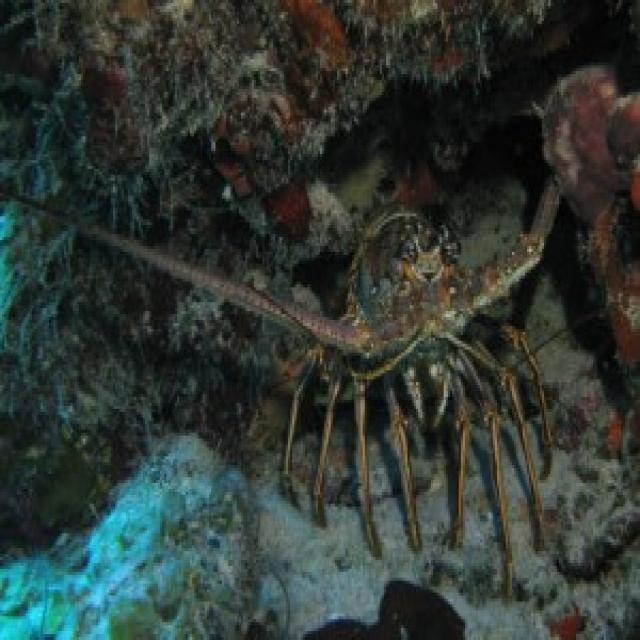lobsters: (92, 80, 629, 598)
